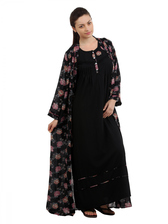clothoes: (48, 36, 129, 216)
